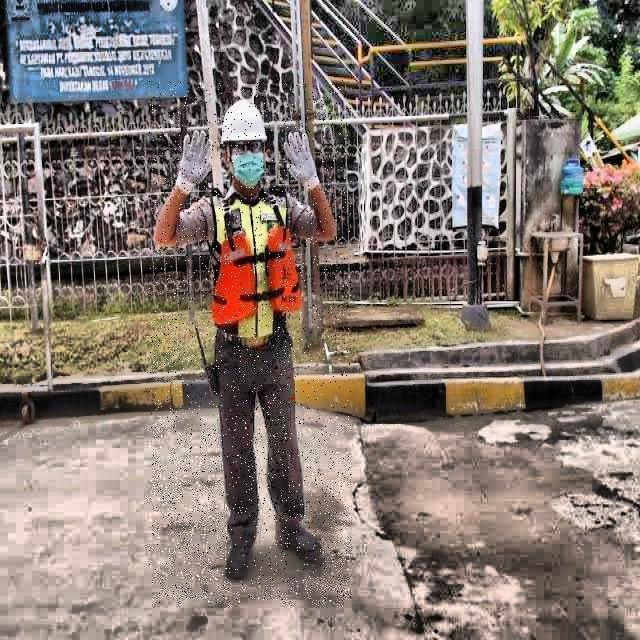safety_helmet: (215, 91, 272, 155)
safety_jacket: (203, 187, 306, 337)
